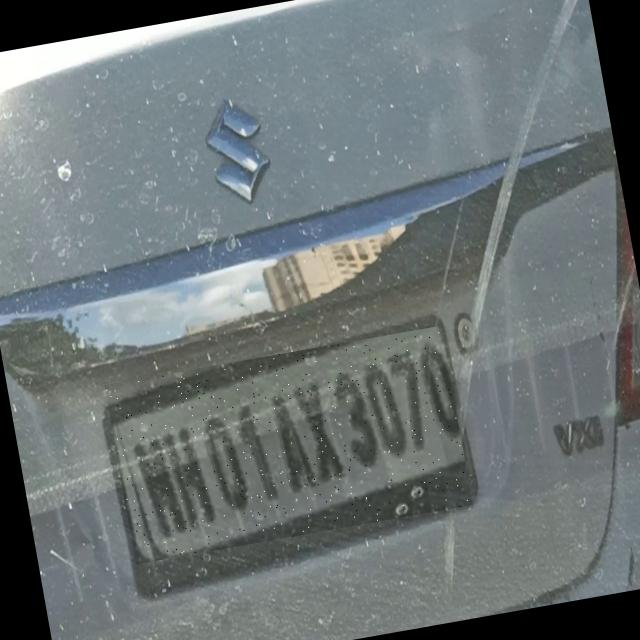Plate: (105, 327, 473, 566)
